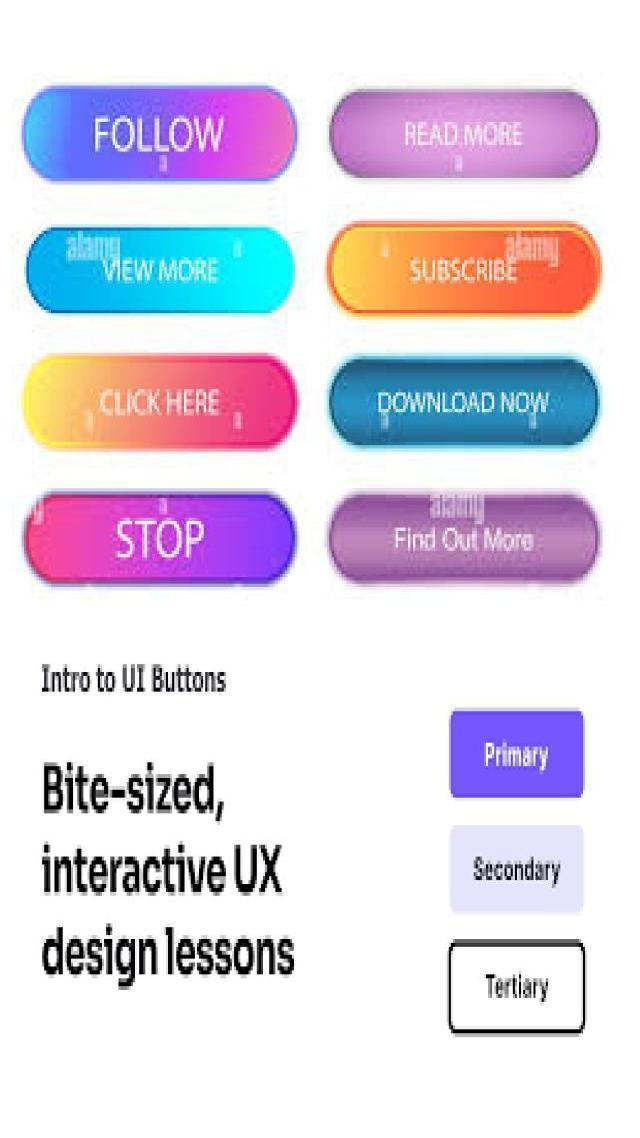Text: (37, 919, 301, 988), (37, 840, 289, 901), (34, 756, 236, 824), (36, 660, 234, 698)
TextButton: (18, 351, 302, 456), (324, 487, 603, 591), (21, 84, 300, 184), (20, 488, 298, 588), (327, 220, 606, 318), (328, 353, 602, 450), (328, 84, 600, 181), (23, 223, 300, 315), (448, 939, 588, 1036), (448, 822, 586, 916), (448, 710, 582, 800)
